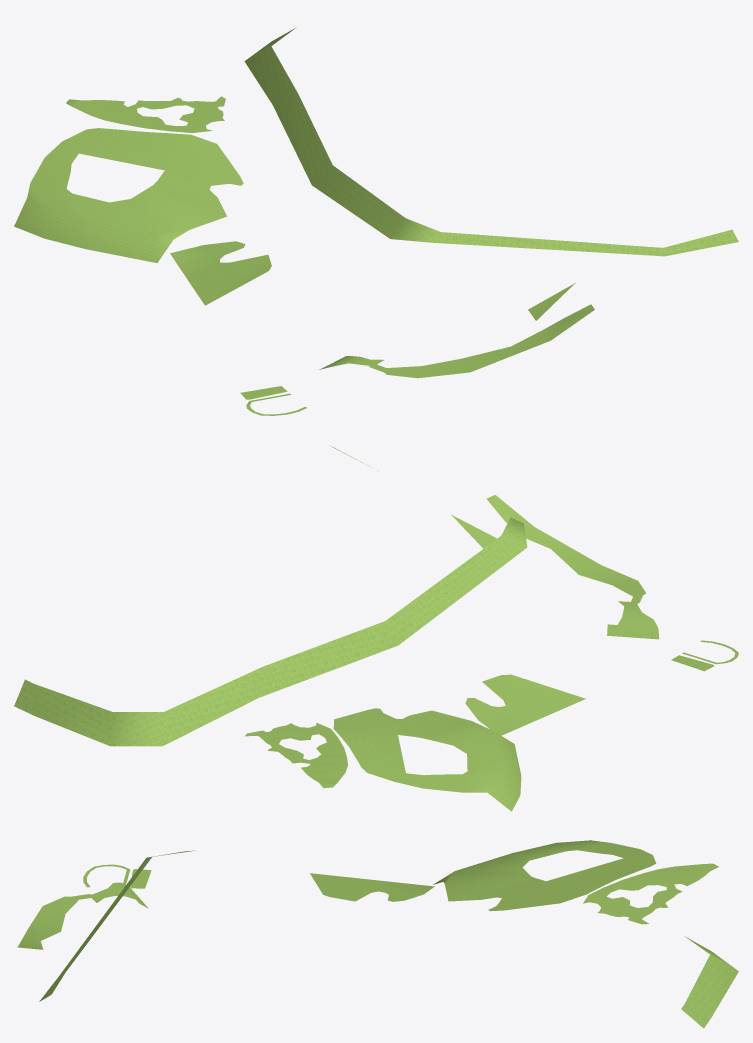
Rendered from kd_stage_1364a3_7_3_bounded.glb.
The picture shows the model from 3 angles, top to bottom: view 1: azimuth 30°, elevation 25°; view 2: azimuth 150°, elevation 25°; view 3: azimuth 270°, elevation 25°; orthographic projection. The views are drawn at different scales.
Visible parts, largest first — view 1: kd_stage_1364a3_7_3_bounded; view 2: kd_stage_1364a3_7_3_bounded; view 3: kd_stage_1364a3_7_3_bounded.
Part boxes in pixels (<box>): kd_stage_1364a3_7_3_bounded: <box>14,27,738,415</box>; kd_stage_1364a3_7_3_bounded: <box>14,445,738,811</box>; kd_stage_1364a3_7_3_bounded: <box>17,840,738,1028</box>.
Size of the model in its own units: 218 by 51.17 by 300.
1 material, 1 textured.
